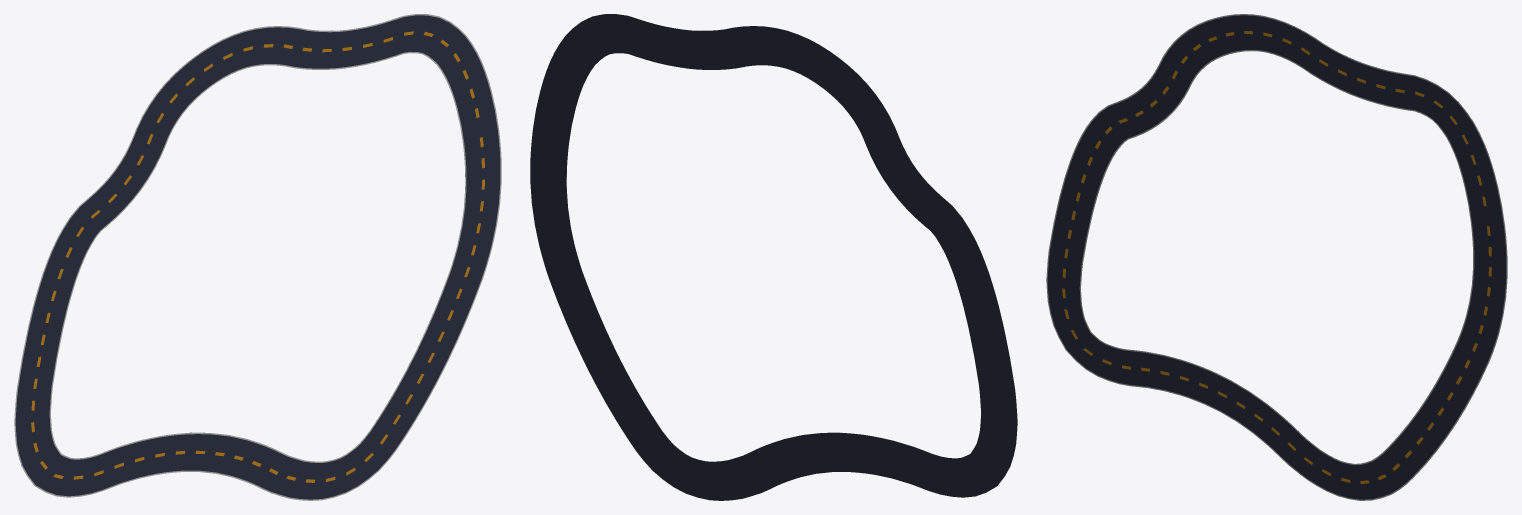
Rendered from track.obj.
3 renders of one model, left to right at view 1: azimuth 30°, elevation 25°; view 2: azimuth 150°, elevation 25°; view 3: azimuth 330°, elevation 25°, orthographic. The views are drawn at different scales.
Bounding box in the file's own units: 15.47 × 14.83 × 0.002.
3 materials, 3 textured.
